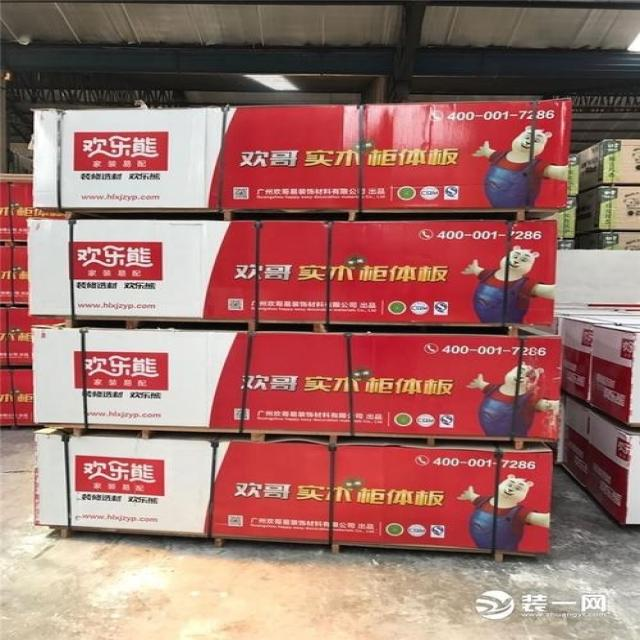box: (36, 427, 553, 556), (33, 97, 571, 212), (32, 326, 561, 442), (27, 218, 558, 326), (561, 315, 640, 402), (584, 412, 640, 526), (590, 322, 640, 429), (1, 175, 64, 244), (0, 306, 64, 367), (576, 137, 640, 192), (576, 182, 640, 234), (561, 395, 590, 485), (556, 153, 579, 250), (0, 367, 35, 427), (0, 244, 31, 307), (576, 230, 640, 249)
